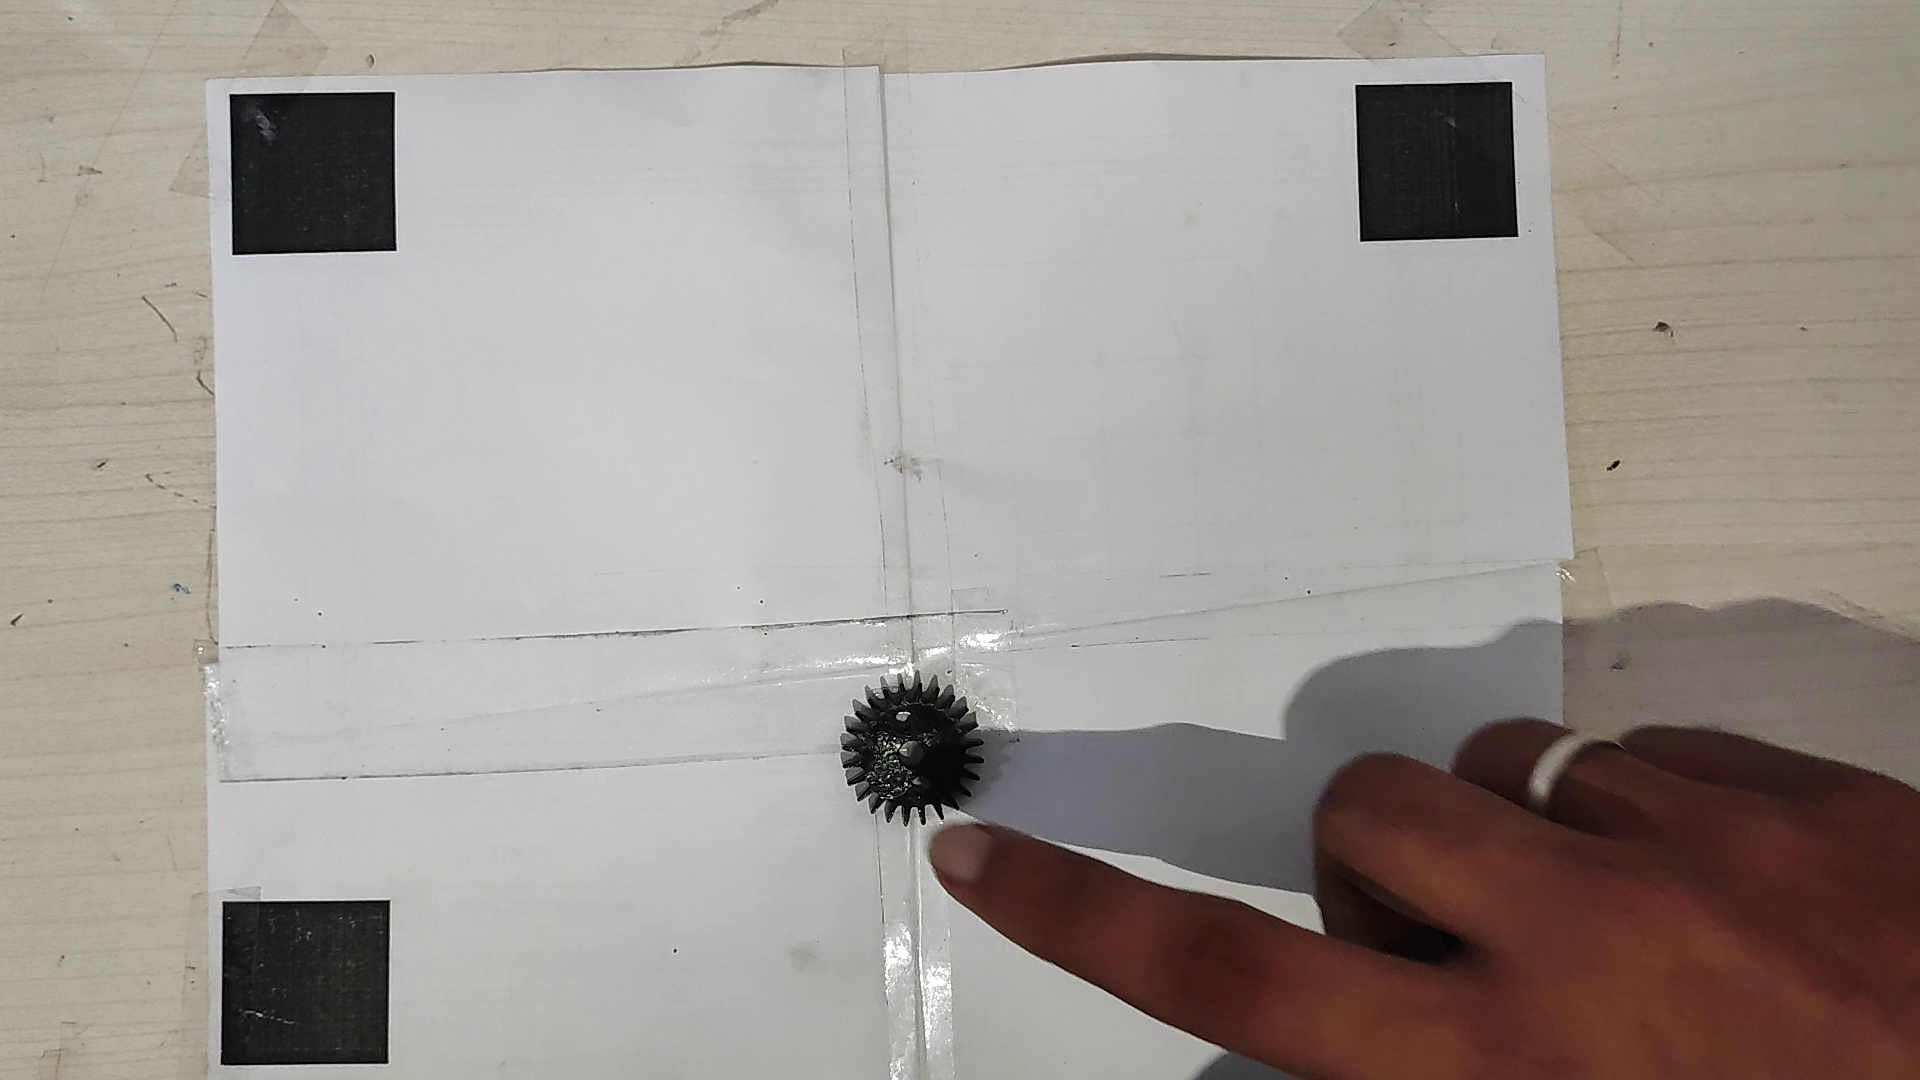Gear: (833, 671, 992, 829)
